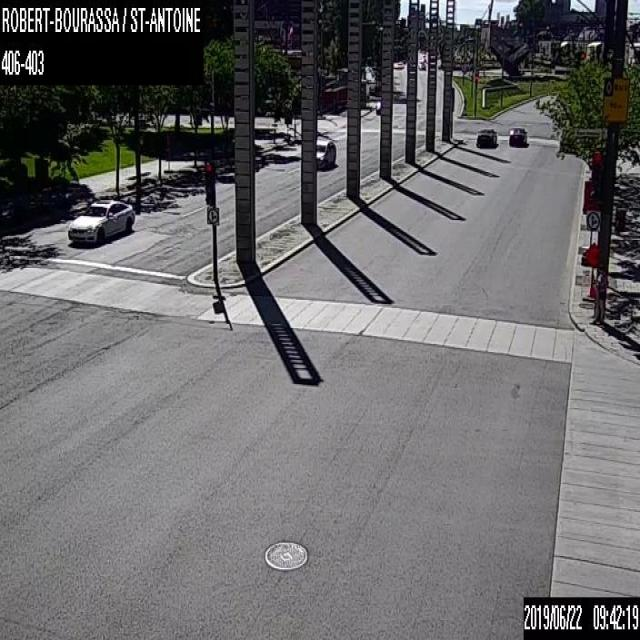construction: (582, 242, 597, 302), (588, 272, 596, 298)
pedestrian: (589, 268, 606, 324)
vehicle: (67, 197, 134, 244), (314, 137, 336, 169), (476, 126, 496, 147), (508, 125, 527, 146), (418, 61, 425, 70), (376, 100, 380, 114)
